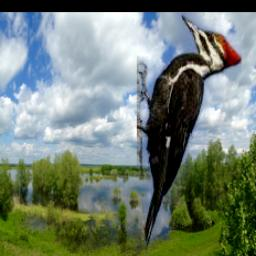Woodpecker: (138, 13, 243, 256)
